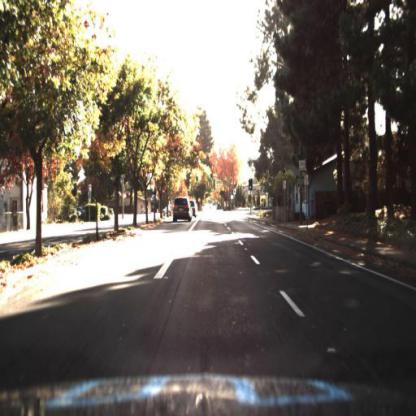car: (174, 197, 191, 227), (161, 202, 176, 219), (192, 199, 199, 220), (162, 206, 174, 218)
trafficLight: (248, 180, 254, 193)
trafficLight-Green: (248, 178, 255, 194), (210, 171, 216, 187), (151, 188, 158, 201), (195, 172, 201, 187)
